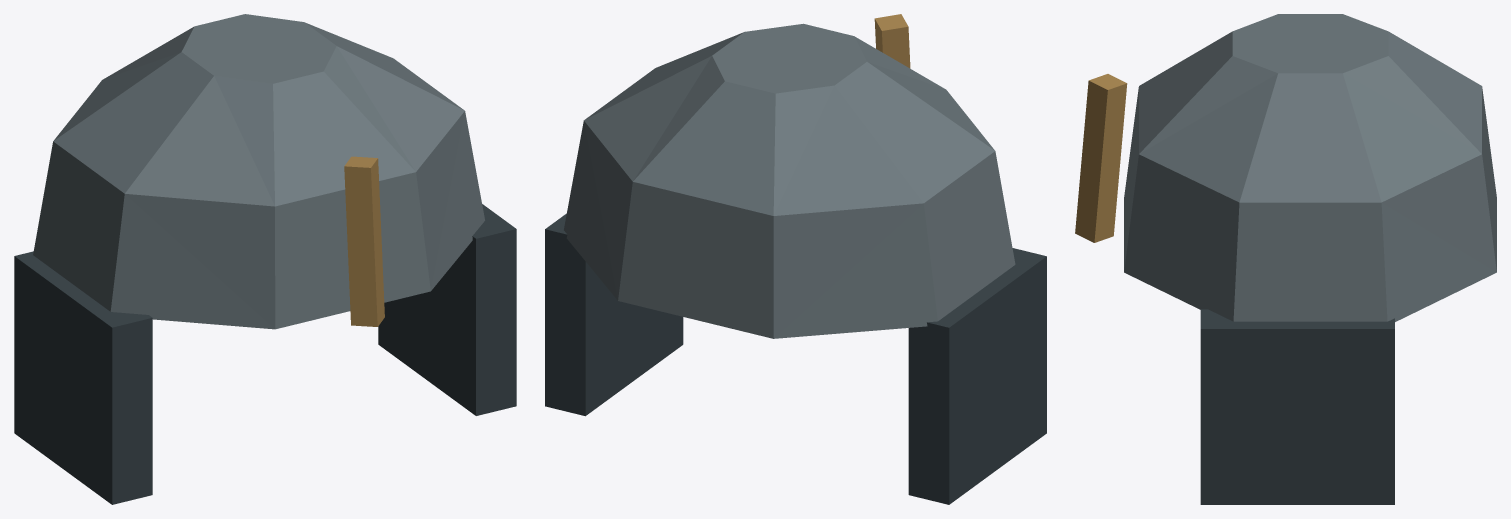
File: NPC_Headwear_01_Helmet.glb
The picture shows the model from 3 angles, left to right: view 1: azimuth 30°, elevation 25°; view 2: azimuth 150°, elevation 25°; view 3: azimuth 270°, elevation 25°; orthographic projection.
Parts seen in each view (by area): view 1: NPC_Headwear_01_Helmet; view 2: NPC_Headwear_01_Helmet; view 3: NPC_Headwear_01_Helmet.
Part boxes in pixels (x1=…): NPC_Headwear_01_Helmet: x1=14, y1=14, x2=516, y2=504; NPC_Headwear_01_Helmet: x1=545, y1=14, x2=1046, y2=504; NPC_Headwear_01_Helmet: x1=1075, y1=14, x2=1496, y2=504.
Bounding box in the file's own units: 0.549 × 0.475 × 0.4997.
